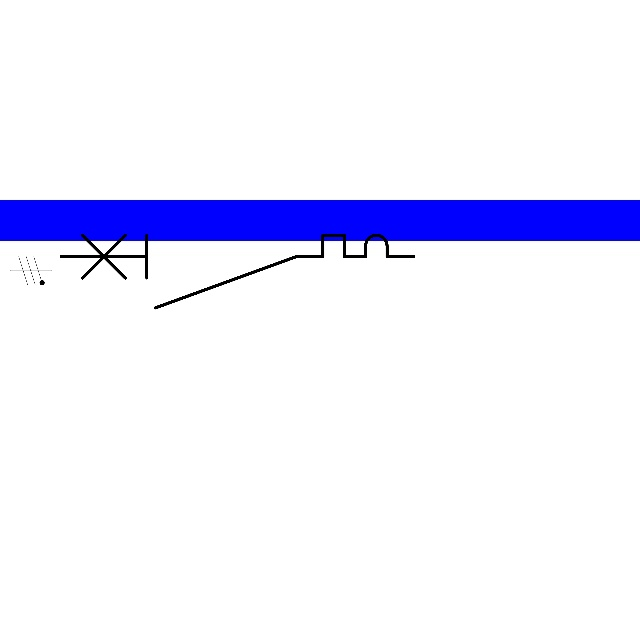interruptor_termomagnetico: (51, 226, 422, 316)
